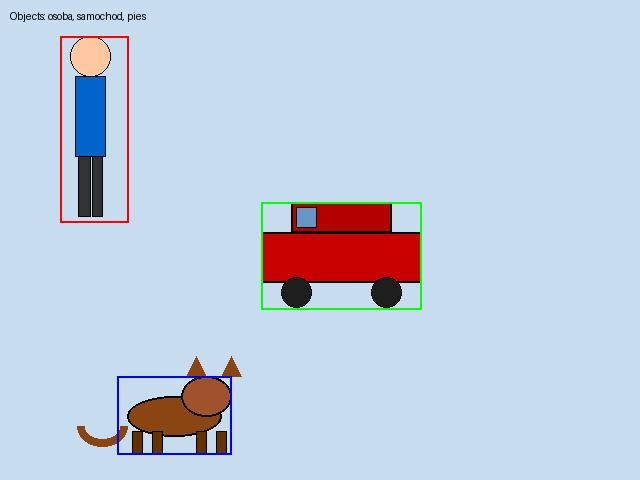osoba: (60, 36, 128, 222)
pies: (117, 376, 231, 454)
samochod: (261, 202, 421, 309)
